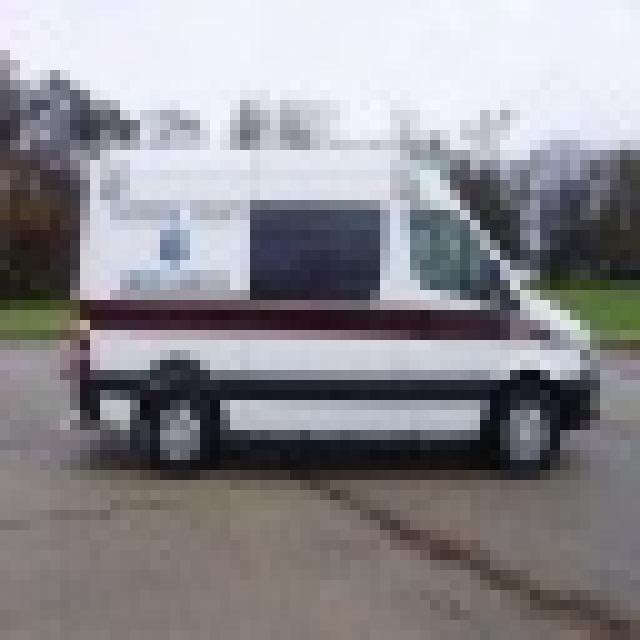Ambulance: (60, 100, 600, 470)
